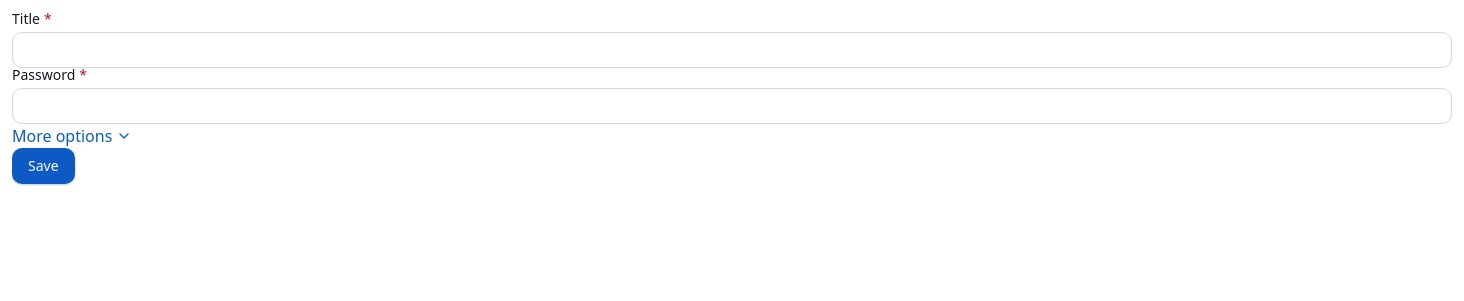
Test: form fields › "More options" opens itself when a hidden field gets an error
Type "Fix fan" into the field labelled "Title *" at (732, 50), box [12,32,1452,68]
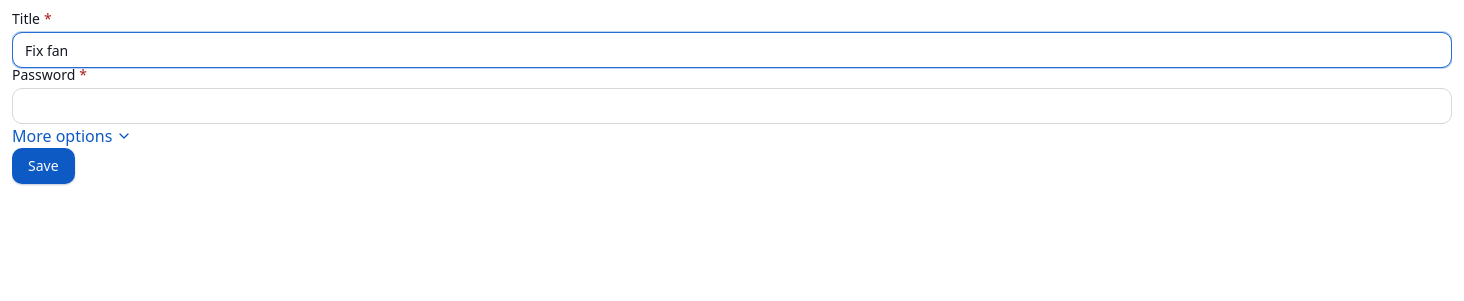
Type "abcd1234" into the password field labelled "Password *" at (732, 106), box [12,88,1452,124]
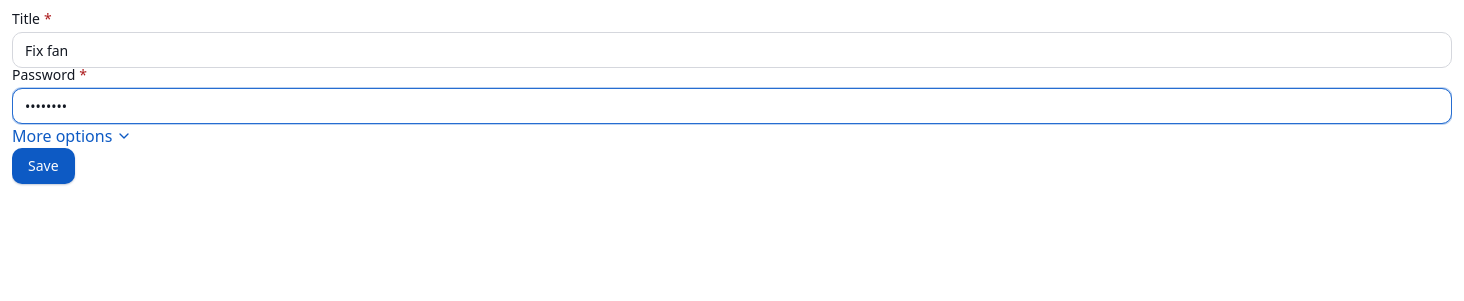
Click the button "Save" at (43, 166), box [12,148,75,184]
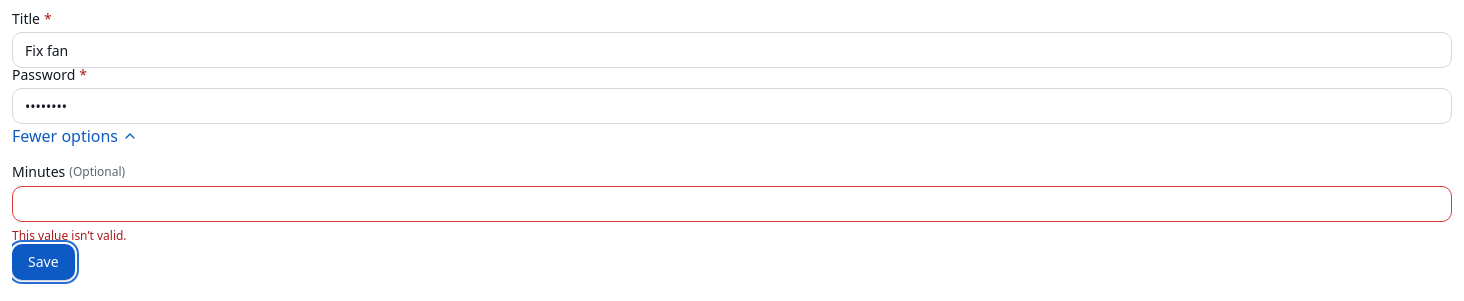
Now the number field labelled "Minutes (Optional)" is shown, box [12,186,1452,222]
Now the button "Fewer options" is disabled, box [12,124,138,148]
